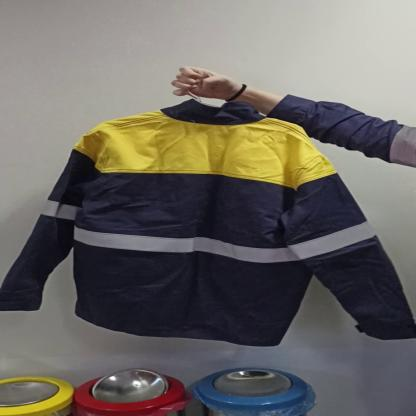C_eletrica: (3, 98, 416, 346)
